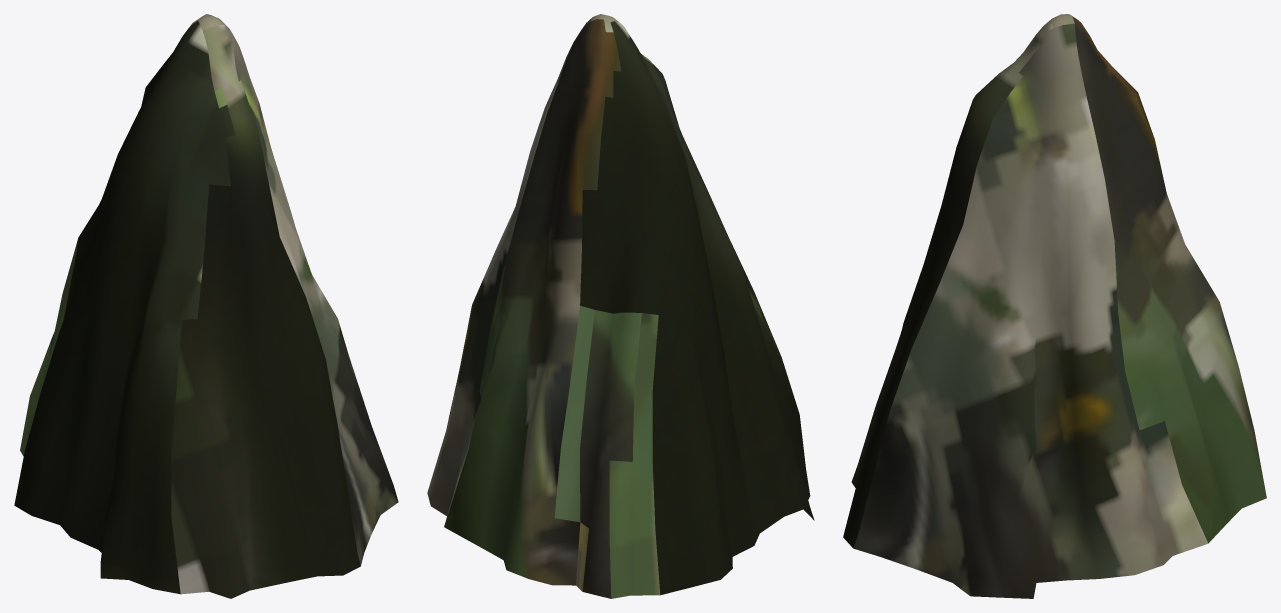
The model's file is Mount_1.2.fbx.
3 renders of one model, left to right at view 1: azimuth 30°, elevation 25°; view 2: azimuth 150°, elevation 25°; view 3: azimuth 270°, elevation 25°, orthographic. The views are drawn at different scales.
Parts seen in each view (by area): view 1: Mount_1.2; view 2: Mount_1.2; view 3: Mount_1.2.
Part boxes in pixels (bbox=[...]): Mount_1.2: bbox=[14, 14, 398, 598]; Mount_1.2: bbox=[427, 14, 814, 598]; Mount_1.2: bbox=[843, 14, 1266, 598].
Bounding box in the file's own units: 21.58 × 32.91 × 24.84.
